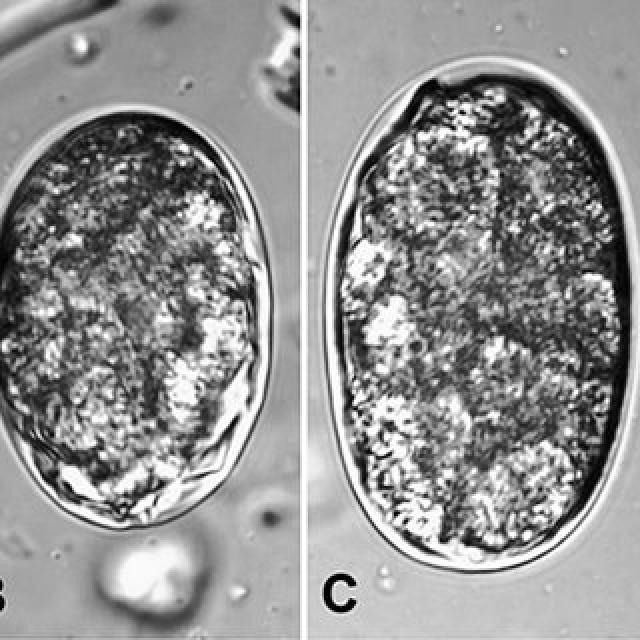Ancylostoma Spp: (316, 46, 638, 584), (0, 89, 280, 549)
